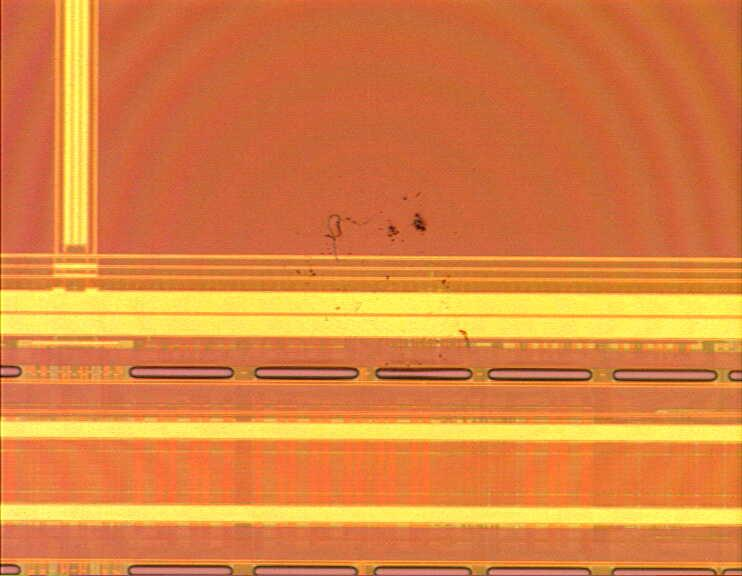PIQ PARTICLE: (292, 186, 476, 352)
